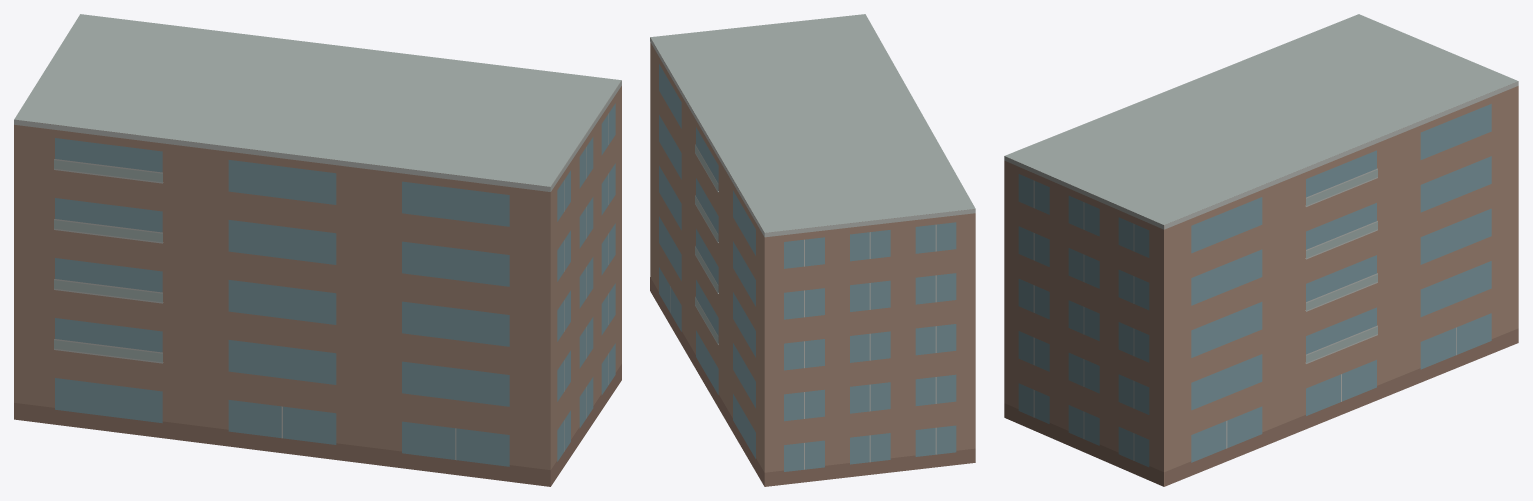
File: survey-upis-32988702.glb
3 views of the same model, side by side, from view 1: azimuth 30°, elevation 25°; view 2: azimuth 150°, elevation 25°; view 3: azimuth 270°, elevation 25° (orthographic). The views are drawn at different scales.
Visible parts, largest first — view 1: survey-upis-32988702.tmp; view 2: survey-upis-32988702.tmp; view 3: survey-upis-32988702.tmp.
Part boxes in pixels (<box>): survey-upis-32988702.tmp: <box>14,14,621,486</box>; survey-upis-32988702.tmp: <box>650,14,975,486</box>; survey-upis-32988702.tmp: <box>1004,14,1518,486</box>.
Size of the model in its own units: 24.23 by 14 by 24.94.
